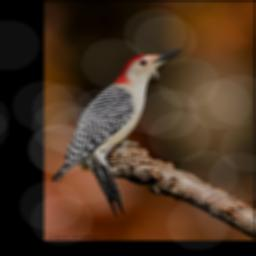Woodpecker: (50, 48, 183, 221)
